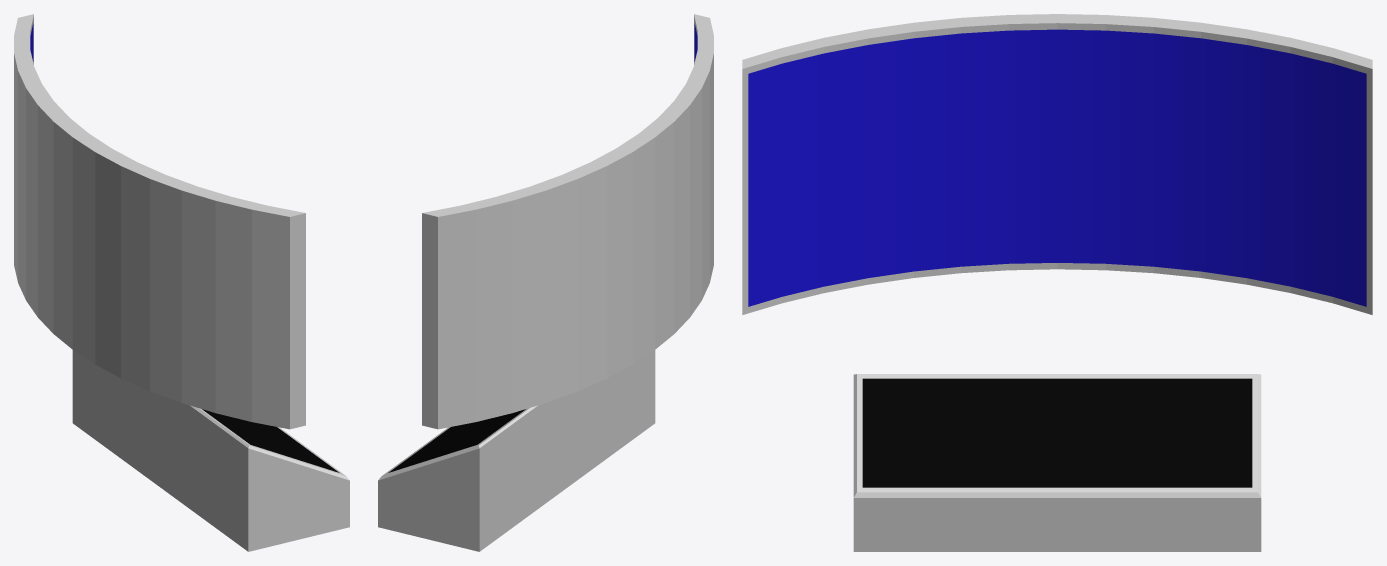
Rendered from Lobby.fbx.
The picture shows the model from 3 angles, left to right: view 1: azimuth 30°, elevation 25°; view 2: azimuth 150°, elevation 25°; view 3: azimuth 270°, elevation 25°; orthographic projection. The views are drawn at different scales.
Parts seen in each view (by area): view 1: Plane, Plane.002; view 2: Plane, Plane.002; view 3: Plane.001, Plane.002, Plane.
Part boxes in pixels (bbox=[...]): Plane: bbox=[14, 14, 305, 429]; Plane.002: bbox=[72, 350, 349, 551]; Plane: bbox=[422, 14, 713, 429]; Plane.002: bbox=[378, 350, 655, 551]; Plane.001: bbox=[748, 29, 1366, 306]; Plane.002: bbox=[853, 374, 1261, 551]; Plane: bbox=[742, 14, 1372, 314].
Bounding box in the file's own units: 373 × 700 × 928.
